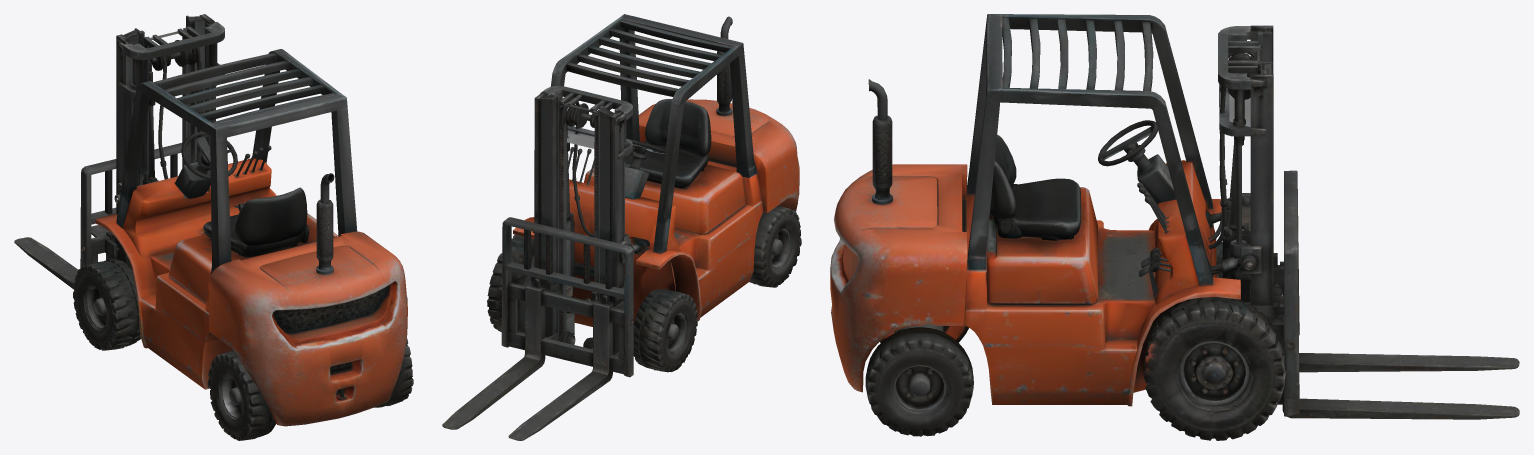
Rendered from forklift.glb.
3 views of the same model, side by side, from view 1: azimuth 30°, elevation 25°; view 2: azimuth 150°, elevation 25°; view 3: azimuth 270°, elevation 25° (orthographic). The views are drawn at different scales.
Visible parts, largest first — view 1: forklift; view 2: forklift; view 3: forklift.
Part boxes in pixels (bbox=[...]): forklift: bbox=[14, 14, 413, 440]; forklift: bbox=[442, 14, 801, 440]; forklift: bbox=[830, 14, 1519, 440].
Bounding box in the file's own units: 1.39 × 2.1 × 3.8.
1 material, 1 textured.
